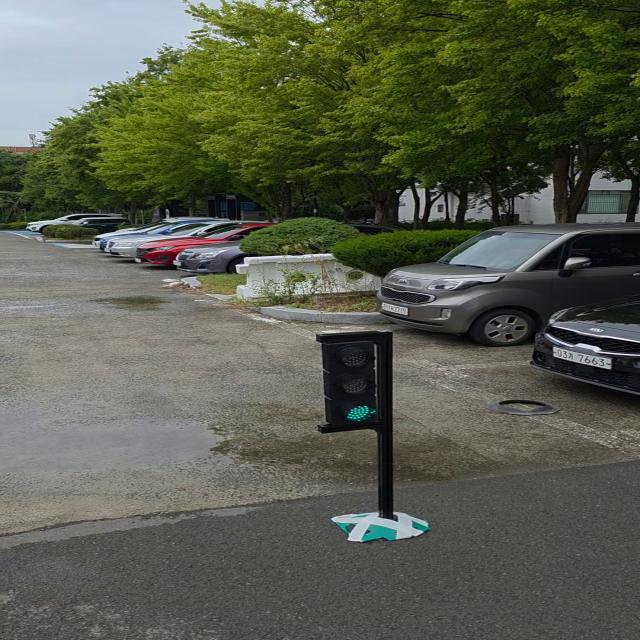green: (329, 334, 391, 428)
